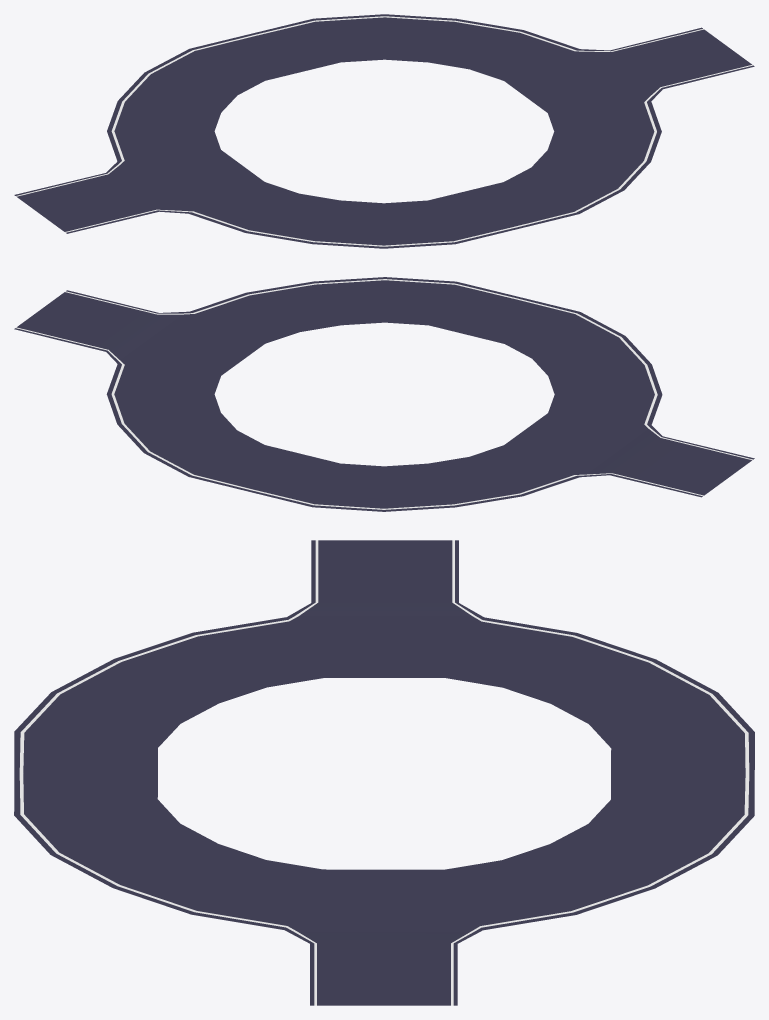
3 renders of one model, top to bottom at view 1: azimuth 30°, elevation 25°; view 2: azimuth 150°, elevation 25°; view 3: azimuth 270°, elevation 25°, orthographic. The views are drawn at different scales.
Visible parts, largest first — view 1: Circle_1.009; view 2: Circle_1.009; view 3: Circle_1.009.
Boxes of the visible parts, <box> form: Circle_1.009: <box>14,14,754,248</box>; Circle_1.009: <box>14,277,754,511</box>; Circle_1.009: <box>14,540,754,1005</box>.
Bounding box in the file's own units: 148 × 0.1358 × 99.38.
1 material, 1 textured.
